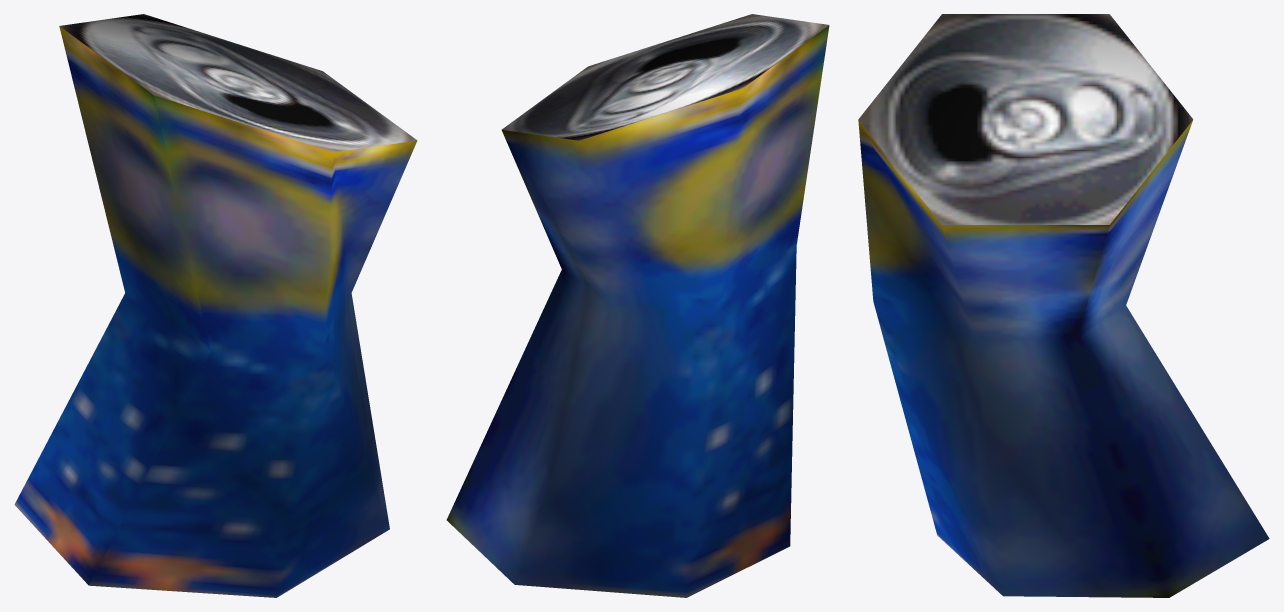
The model's file is can_3_crushed.glb.
3 renders of one model, left to right at view 1: azimuth 30°, elevation 25°; view 2: azimuth 150°, elevation 25°; view 3: azimuth 270°, elevation 25°, orthographic. The views are drawn at different scales.
Visible parts, largest first — view 1: Can_3_Crushed; view 2: Can_3_Crushed; view 3: Can_3_Crushed.
Boxes of the visible parts, bbox=[...] form: Can_3_Crushed: bbox=[14, 14, 417, 597]; Can_3_Crushed: bbox=[446, 14, 829, 597]; Can_3_Crushed: bbox=[858, 14, 1269, 597].
Size of the model in its own units: 0.2077 by 0.3493 by 0.2773.
1 material, 1 textured.
